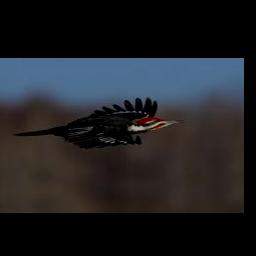Woodpecker: (14, 97, 184, 149)
